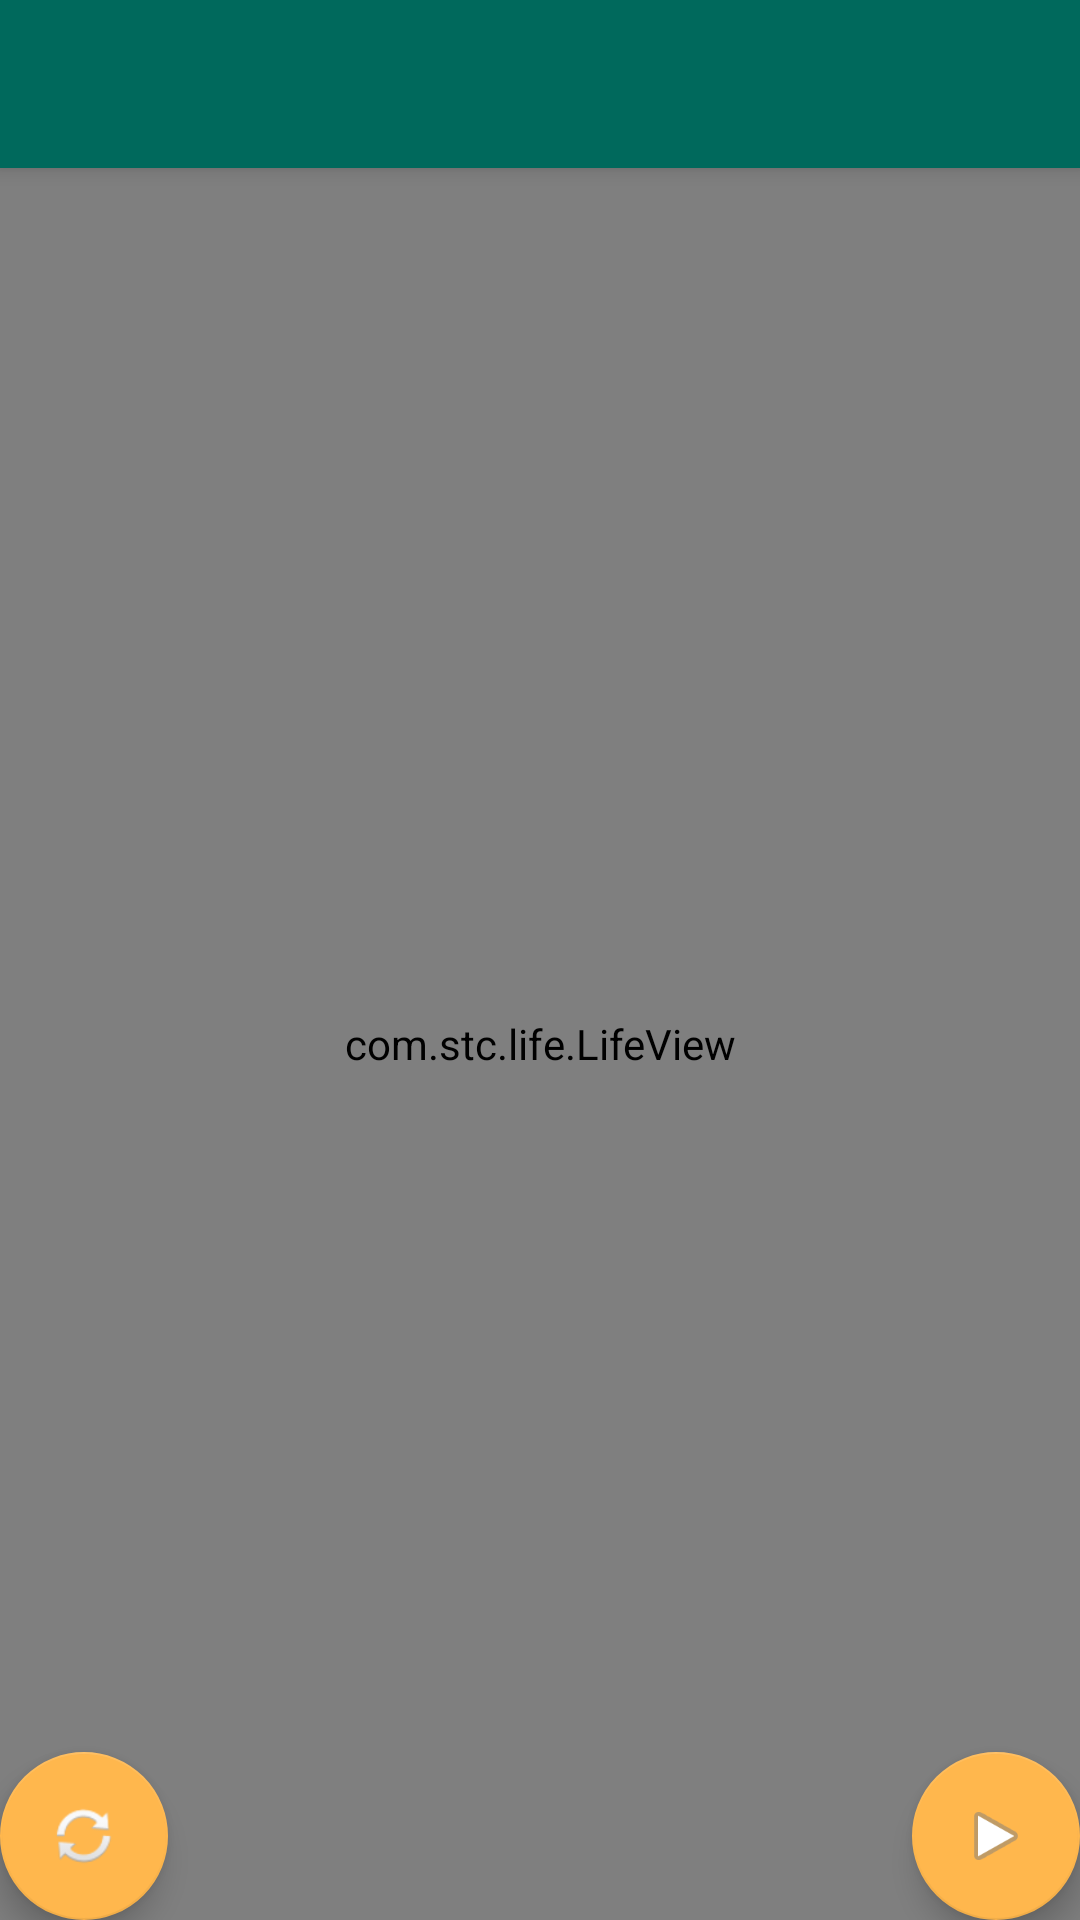

Icon bounding boxes for this 1080px x 1920px phone screenshot, format (x1, y1, x2, y2):
play: (912, 1752, 1080, 1920)
popup sync: (0, 1752, 168, 1920)
